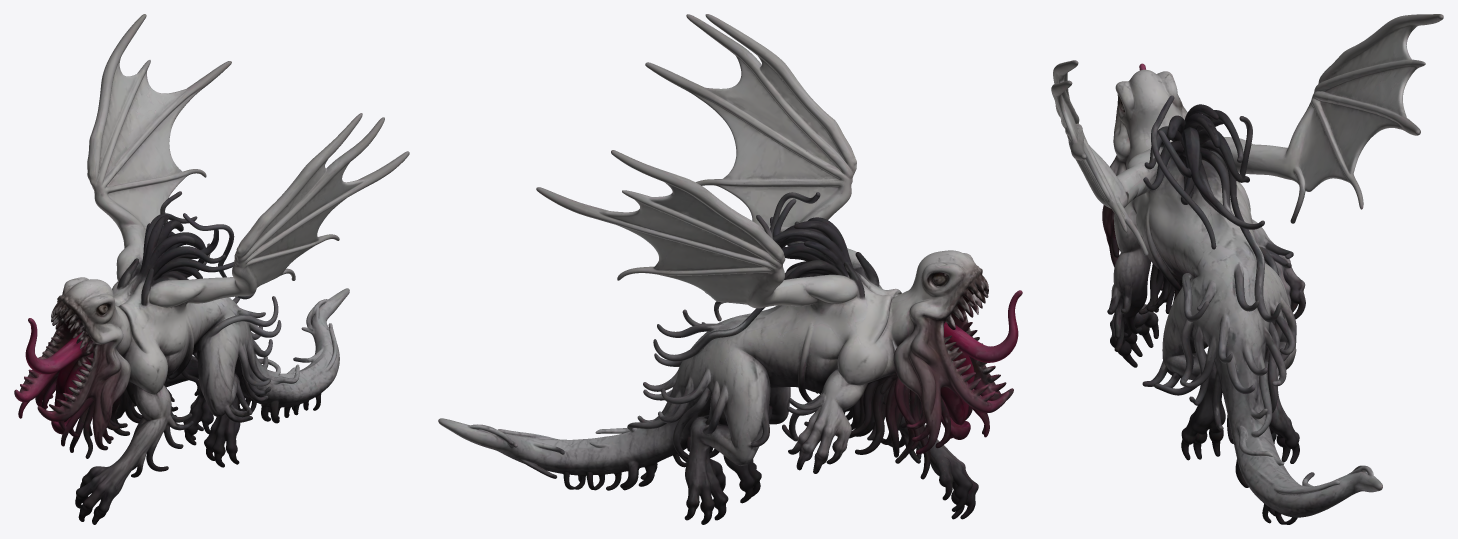
The model's file is horror_dragon.glb.
3 renders of one model, left to right at view 1: azimuth 30°, elevation 25°; view 2: azimuth 150°, elevation 25°; view 3: azimuth 270°, elevation 25°, orthographic. The views are drawn at different scales.
Parts seen in each view (by area): view 1: texture_pbr_v128; view 2: texture_pbr_v128; view 3: texture_pbr_v128.
Part boxes in pixels (x1,y1,x2,y2): texture_pbr_v128: (14,14,409,524); texture_pbr_v128: (438,14,1022,524); texture_pbr_v128: (1051,14,1443,524).
Size of the model in its own units: 0.9855 by 0.8429 by 0.6565.
1 material, 1 textured.
